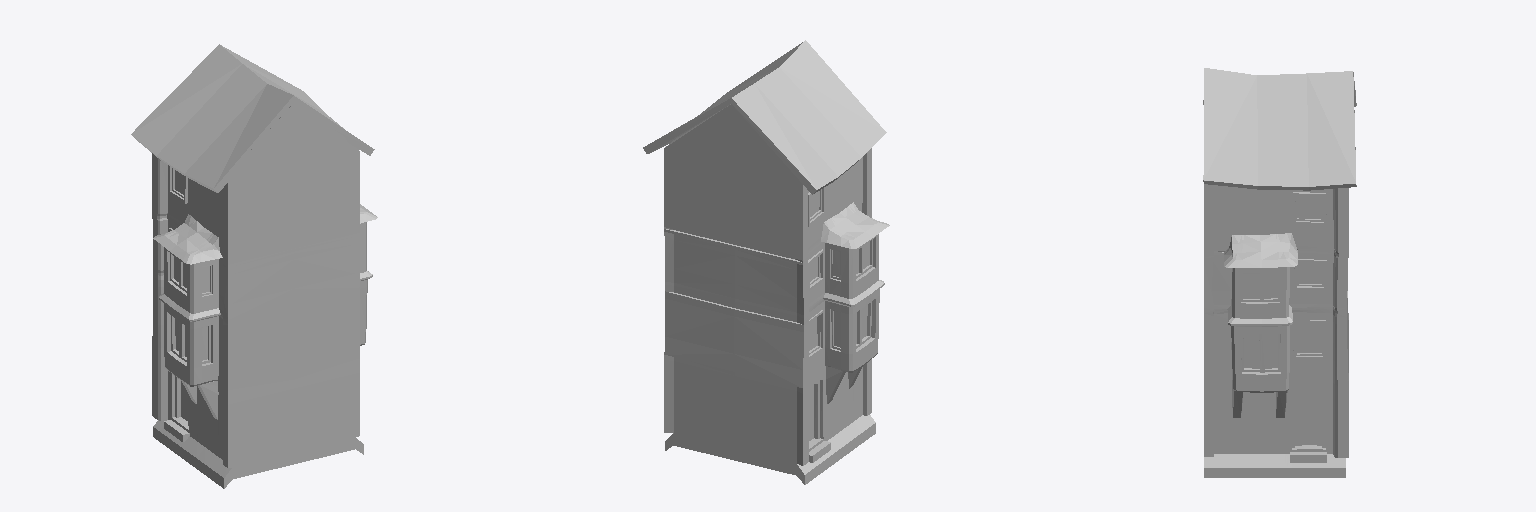
The model's file is house02.1.obj.
The picture shows the model from 3 angles: view 1: azimuth 30°, elevation 25°; view 2: azimuth 150°, elevation 25°; view 3: azimuth 270°, elevation 25°; orthographic projection.
Visible parts, largest first — view 1: House02; view 2: House02; view 3: House02.
Part boxes in pixels (x1,y1,x2,y2): House02: (131, 44, 377, 488); House02: (643, 40, 889, 484); House02: (1203, 68, 1356, 477).
Bounding box in the file's own units: 16.31 × 30.64 × 11.29.